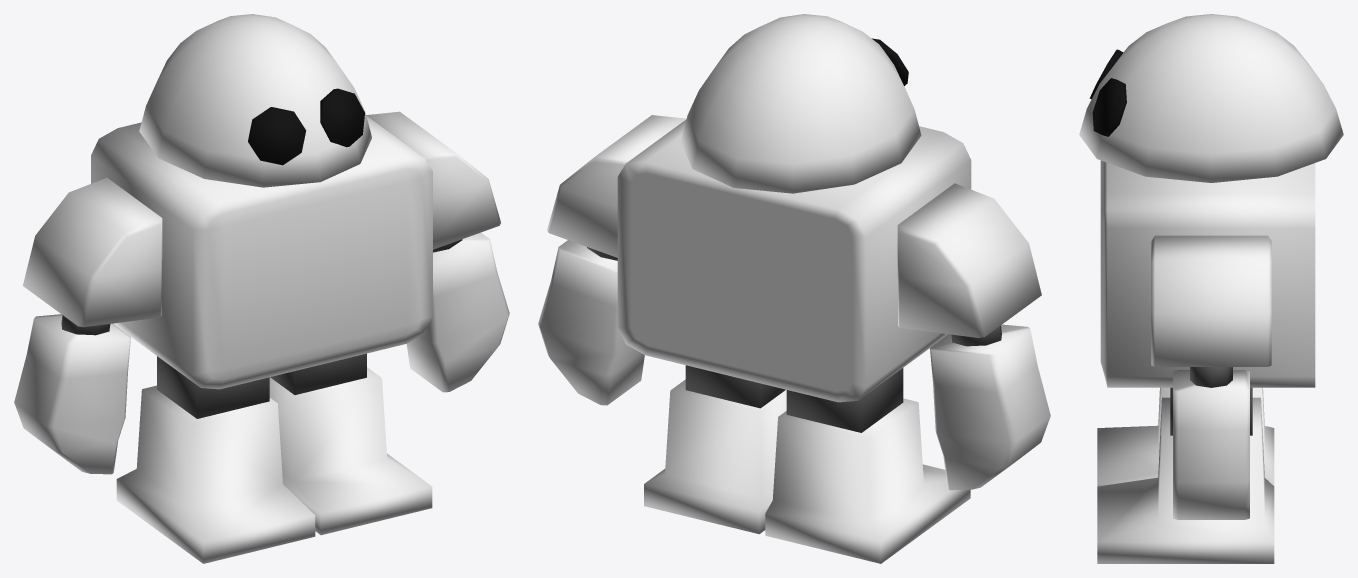
File: Big_Robot.fbx
The picture shows the model from 3 angles, left to right: view 1: azimuth 30°, elevation 25°; view 2: azimuth 150°, elevation 25°; view 3: azimuth 270°, elevation 25°; orthographic projection. The views are drawn at different scales.
Visible parts, largest first — view 1: Robot_toy; view 2: Robot_toy; view 3: Robot_toy.
Part boxes in pixels (box(x1,y1,x2,y2)): Robot_toy: box(14, 14, 509, 563); Robot_toy: box(538, 14, 1050, 563); Robot_toy: box(1079, 14, 1343, 563).
Size of the model in its own units: 1987 by 1938 by 965.
